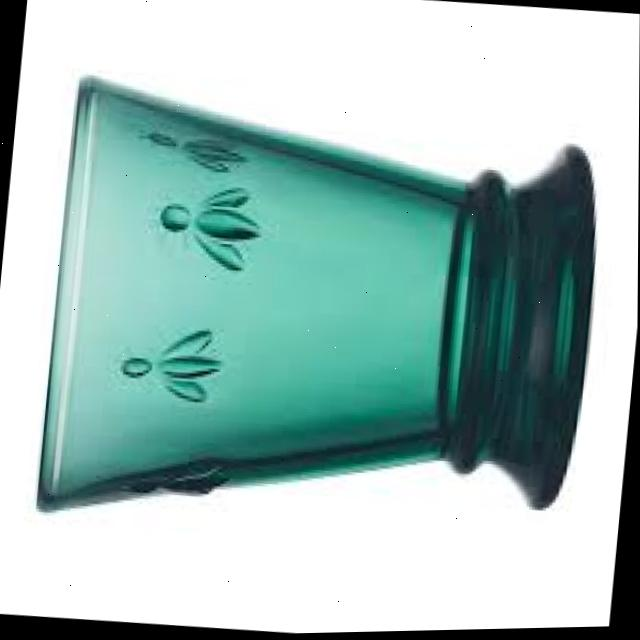Dry: (33, 63, 612, 560)
